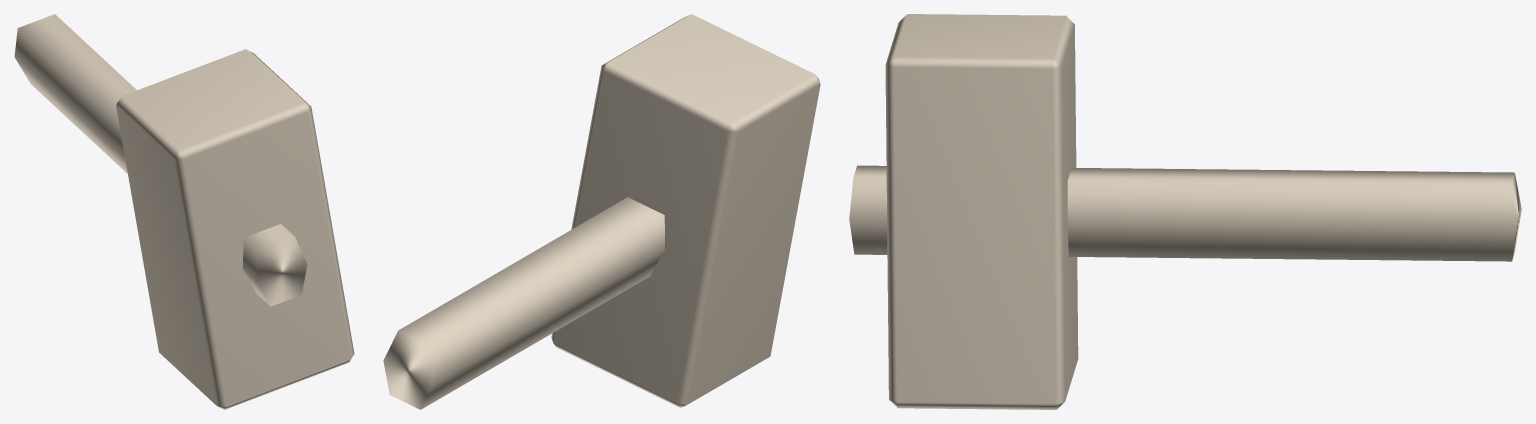
File: hammer-base.glb
3 renders of one model, left to right at view 1: azimuth 30°, elevation 25°; view 2: azimuth 150°, elevation 25°; view 3: azimuth 270°, elevation 25°, orthographic. The views are drawn at different scales.
Bounding box in the file's own units: 0.2627 × 0.4043 × 0.6952.
